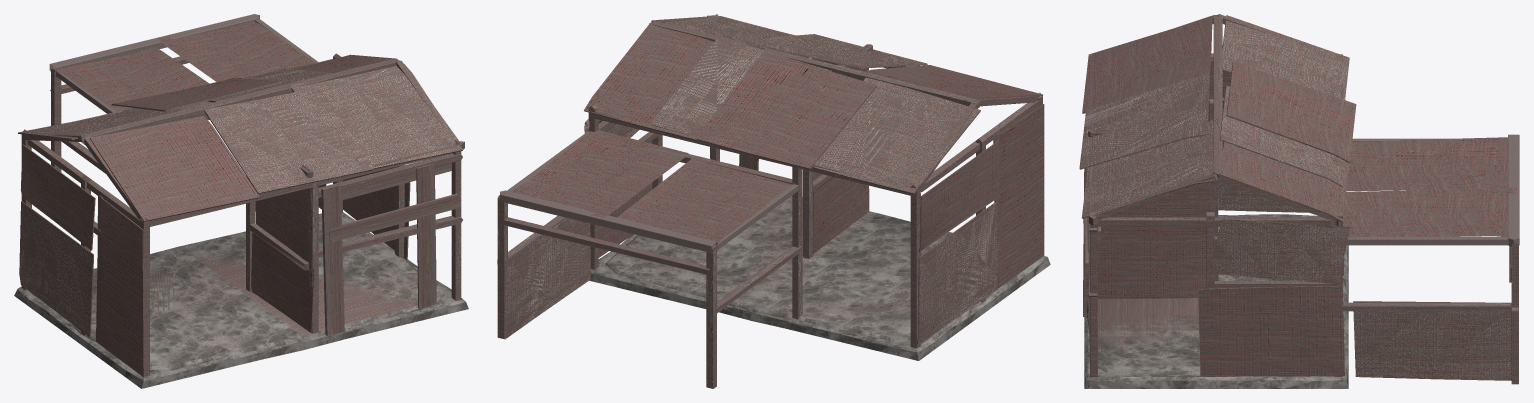
File: Shed 2.fbx
The picture shows the model from 3 angles, left to right: view 1: azimuth 30°, elevation 25°; view 2: azimuth 150°, elevation 25°; view 3: azimuth 270°, elevation 25°; orthographic projection. The views are drawn at different scales.
Parts seen in each view (by area): view 1: Group1; view 2: Group1; view 3: Group1.
Boxes of the visible parts, x1,y1,x2,y2 form: Group1: (14,14,468,388); Group1: (497,14,1050,388); Group1: (1079,14,1519,388).
Size of the model in its own units: 695 by 422 by 776.
